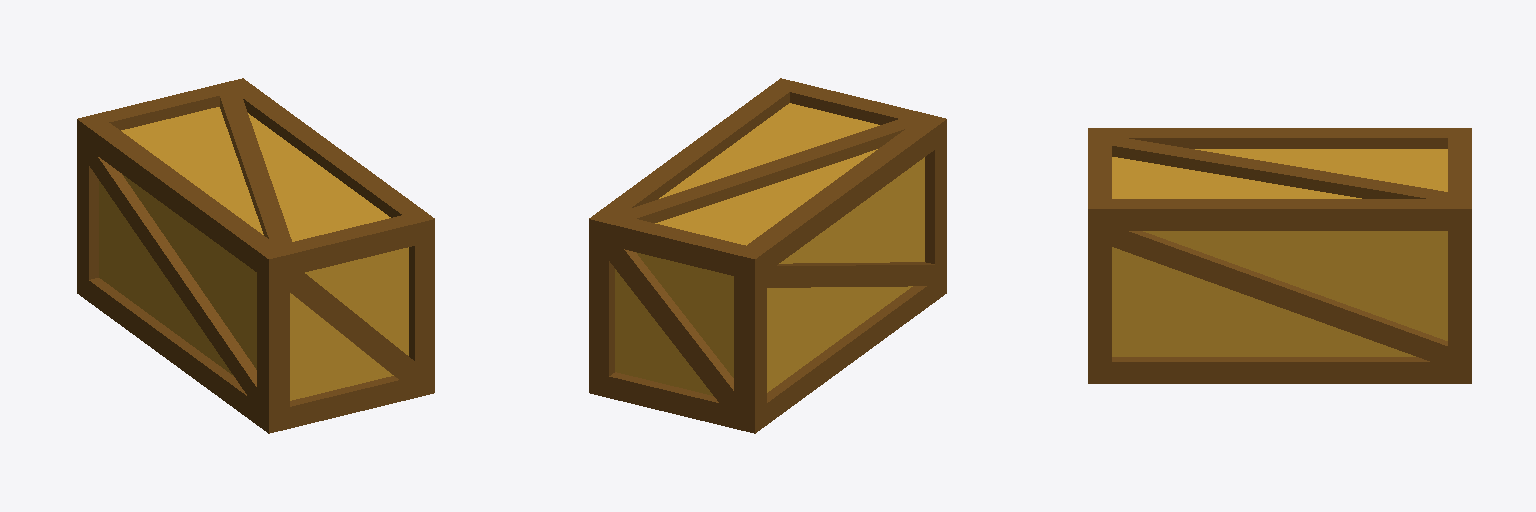
3 renders of one model, left to right at view 1: azimuth 30°, elevation 25°; view 2: azimuth 150°, elevation 25°; view 3: azimuth 270°, elevation 25°, orthographic.
Visible parts, largest first — view 1: LongCrate_Cube.001; view 2: LongCrate_Cube.001; view 3: LongCrate_Cube.001.
Boxes of the visible parts, <box> form: LongCrate_Cube.001: <box>77,78,434,433</box>; LongCrate_Cube.001: <box>589,78,946,433</box>; LongCrate_Cube.001: <box>1088,128,1471,383</box>.
Bounding box in the file's own units: 1 × 1 × 2.
1 materials, 1 textured.